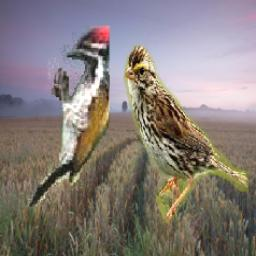Sparrow: (124, 41, 248, 224)
Woodpecker: (28, 27, 111, 208)
